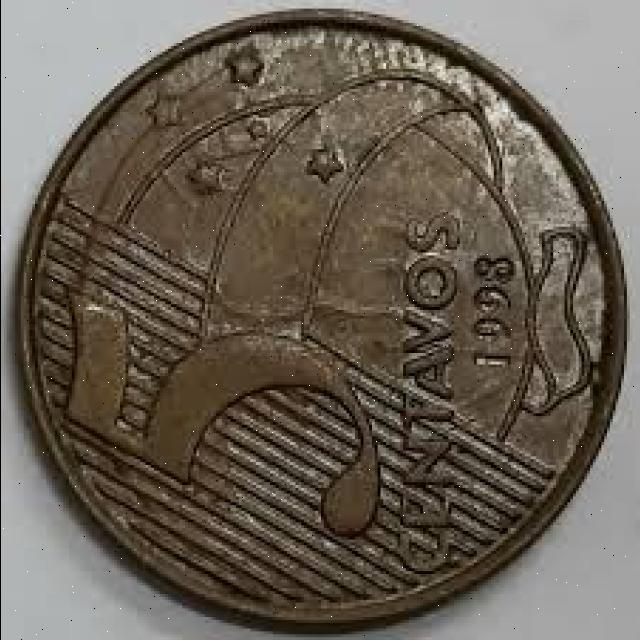5 cent: (10, 1, 620, 626)
